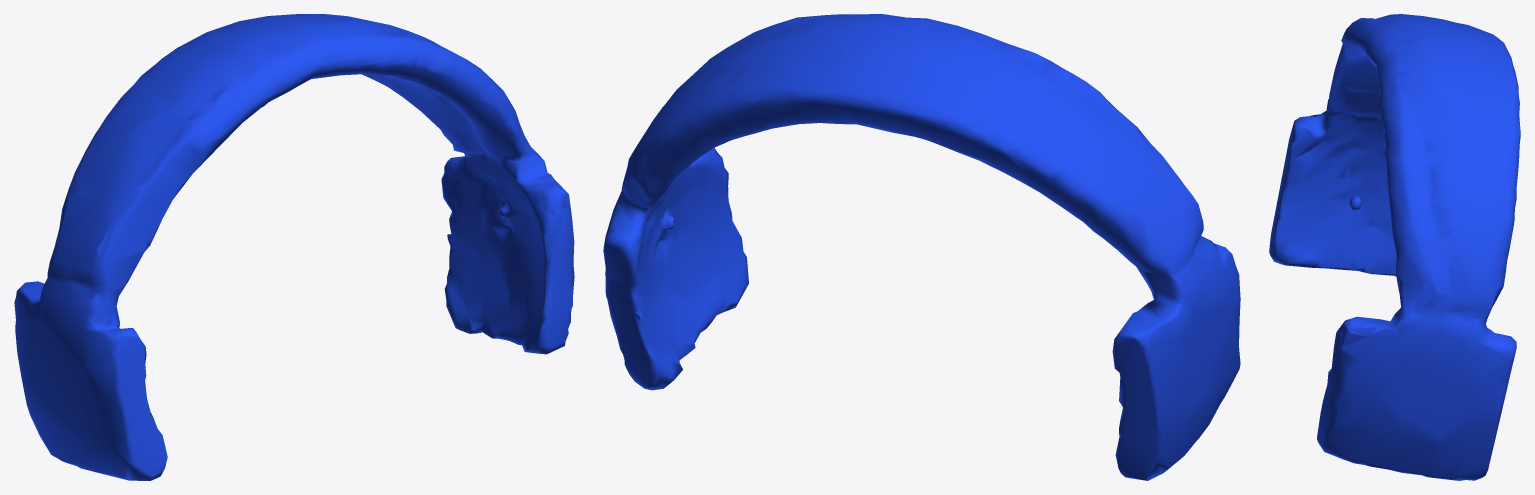
Rendered from blue square headphones.glb.
The picture shows the model from 3 angles, left to right: view 1: azimuth 30°, elevation 25°; view 2: azimuth 150°, elevation 25°; view 3: azimuth 270°, elevation 25°; orthographic projection. The views are drawn at different scales.
Parts seen in each view (by area): view 1: headphones_square_blue.001; view 2: headphones_square_blue.001; view 3: headphones_square_blue.001.
Part boxes in pixels (bbox=[...]): headphones_square_blue.001: bbox=[14, 14, 574, 480]; headphones_square_blue.001: bbox=[603, 14, 1240, 480]; headphones_square_blue.001: bbox=[1269, 14, 1520, 480].
Bounding box in the file's own units: 0.3862 × 0.2645 × 0.177.
